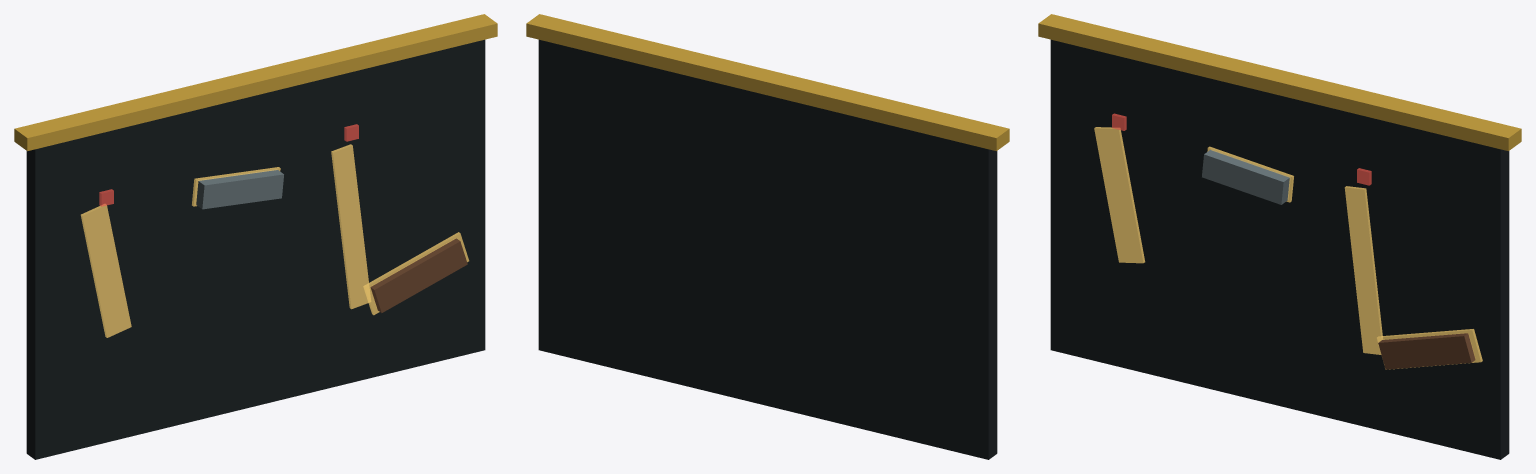
File: hp_room_rm_maint_tool_wall.glb
The picture shows the model from 3 angles, left to right: view 1: azimuth 30°, elevation 25°; view 2: azimuth 150°, elevation 25°; view 3: azimuth 330°, elevation 25°; orthographic projection.
Visible parts, largest first — view 1: peg_board, board_frame, silhouette_rod, silhouette_wrench, real_saw_blade, real_cutter, silhouette_saw; view 2: peg_board, board_frame; view 3: peg_board, board_frame, silhouette_wrench, silhouette_rod, real_saw_blade, real_cutter, silhouette_saw.
Part boxes in pixels (bbox=[...]): peg_board: bbox=[26, 39, 485, 459]; board_frame: bbox=[14, 14, 497, 151]; silhouette_rod: bbox=[331, 144, 371, 309]; silhouette_wrench: bbox=[80, 204, 131, 337]; real_saw_blade: bbox=[370, 238, 467, 312]; real_cutter: bbox=[195, 169, 283, 209]; silhouette_saw: bbox=[364, 232, 469, 315]; peg_board: bbox=[538, 39, 997, 459]; board_frame: bbox=[526, 14, 1009, 151]; peg_board: bbox=[1050, 39, 1509, 459]; board_frame: bbox=[1038, 14, 1521, 151]; silhouette_wrench: bbox=[1094, 127, 1145, 263]; silhouette_rod: bbox=[1344, 186, 1382, 354]; real_saw_blade: bbox=[1378, 333, 1475, 369]; real_cutter: bbox=[1202, 149, 1290, 204]; silhouette_saw: bbox=[1377, 329, 1482, 369].
Size of the model in its own units: 1.88 by 1.25 by 0.13.
